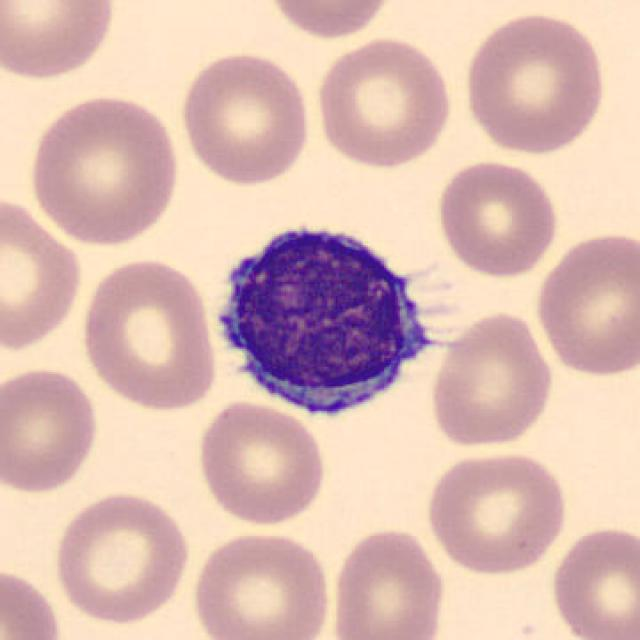Lymphocyte: (201, 208, 444, 427)
RBC: (23, 90, 185, 249), (76, 254, 220, 414), (458, 7, 610, 157), (421, 446, 571, 578), (313, 34, 457, 171), (50, 488, 192, 626), (176, 48, 315, 188), (426, 307, 556, 451), (194, 398, 329, 529), (187, 527, 334, 640), (532, 226, 638, 381), (432, 155, 562, 280), (325, 523, 449, 640), (0, 190, 85, 356), (0, 363, 101, 497), (546, 522, 638, 640), (0, 0, 121, 85), (259, 0, 401, 42), (0, 560, 66, 640)
